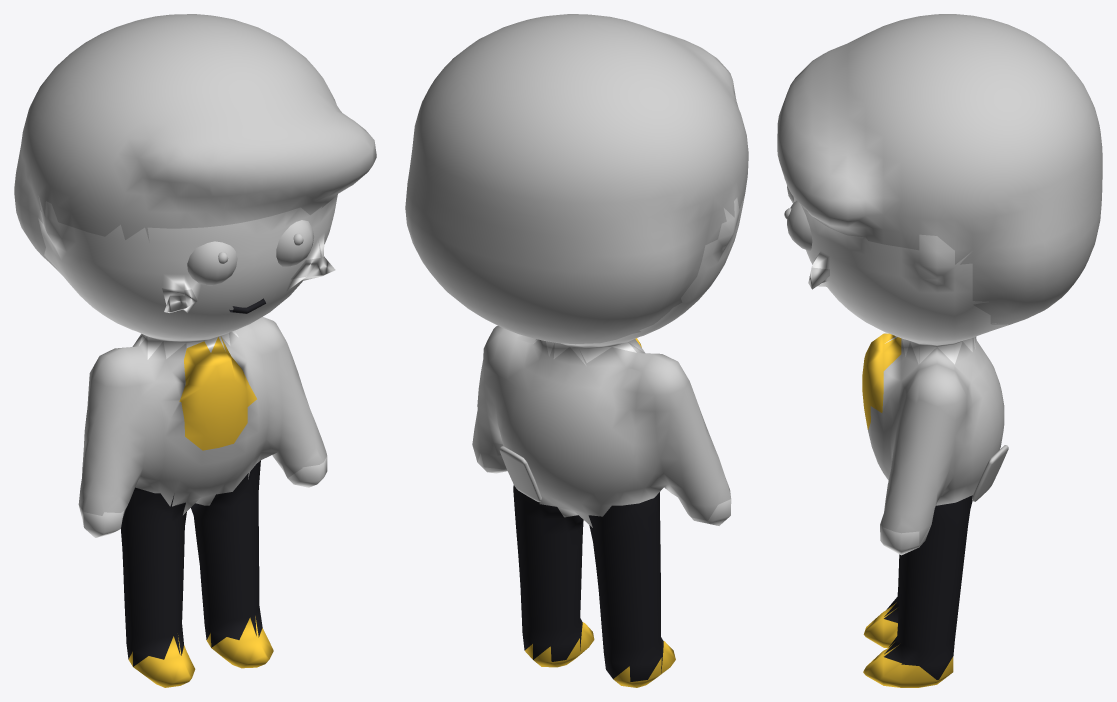
File: idol_boy_a.fbx
3 renders of one model, left to right at view 1: azimuth 30°, elevation 25°; view 2: azimuth 150°, elevation 25°; view 3: azimuth 270°, elevation 25°, orthographic. The views are drawn at different scales.
Parts seen in each view (by area): view 1: idol_boy_a; view 2: idol_boy_a; view 3: idol_boy_a.
Part boxes in pixels (x1,y1,x2,y2): idol_boy_a: (14,14,376,687); idol_boy_a: (405,14,748,687); idol_boy_a: (777,14,1102,687).
Bounding box in the file's own units: 0.5833 × 1.22 × 0.5704.
